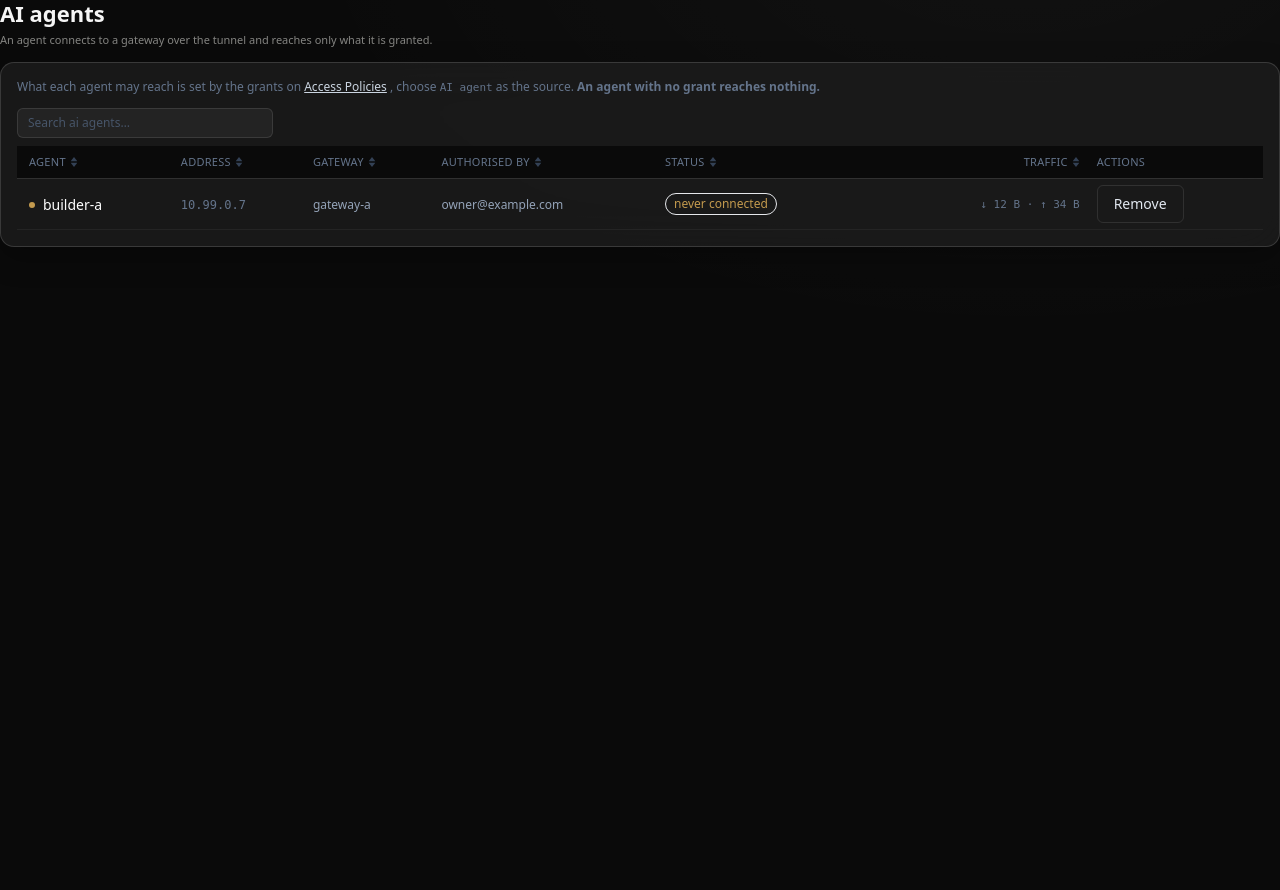
released Agents route, F04 runtime facts › resets a failed metadata PATCH to the last server snapshot without partial state
Step 1. Click the button with aria-label "Open builder-a" → (66, 205), box x1=29 y1=195 x2=102 y2=215
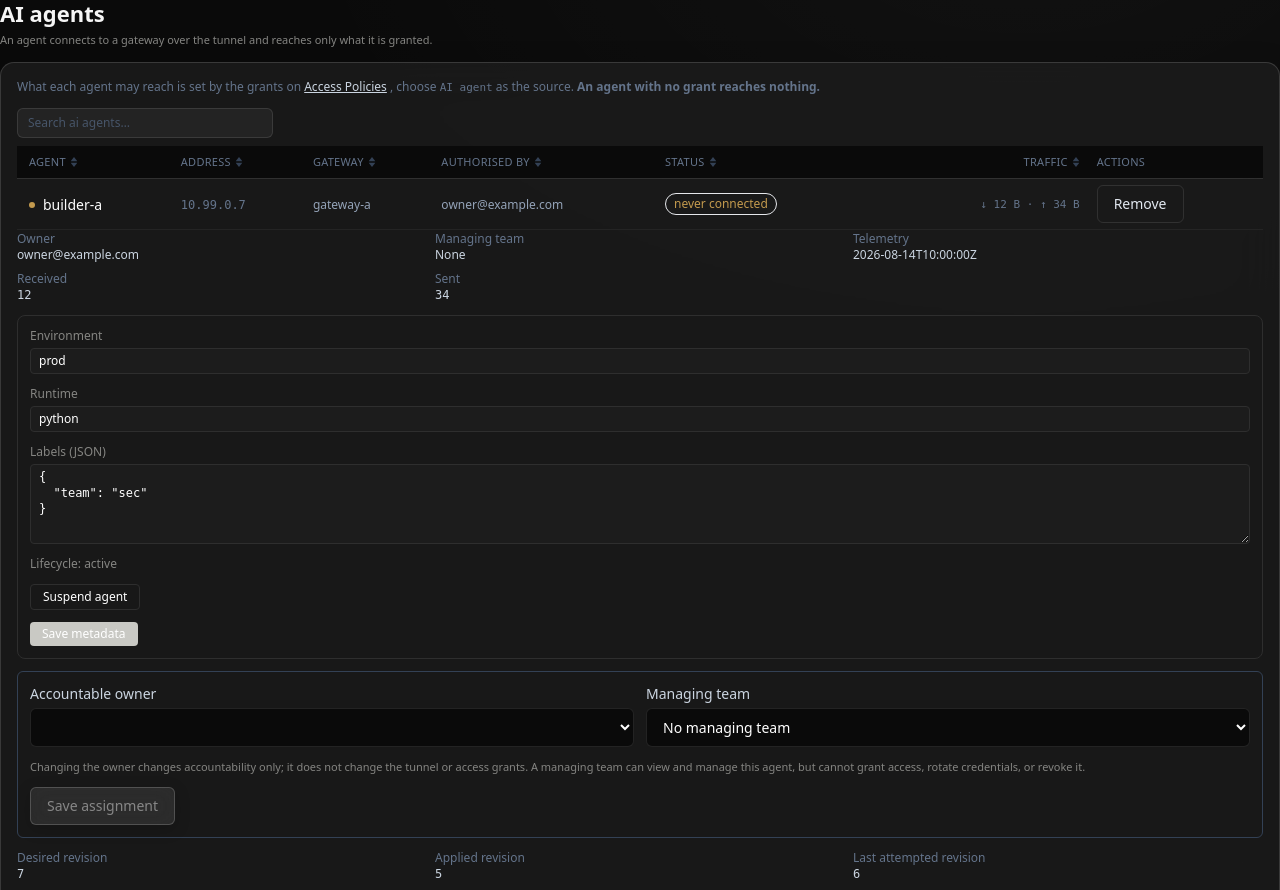
Expected: the field labelled "Environment" is shown
Step 2. Replace the text in the field labelled "Environment" with "broken-local-draft" → (640, 361), box x1=30 y1=348 x2=1250 y2=374
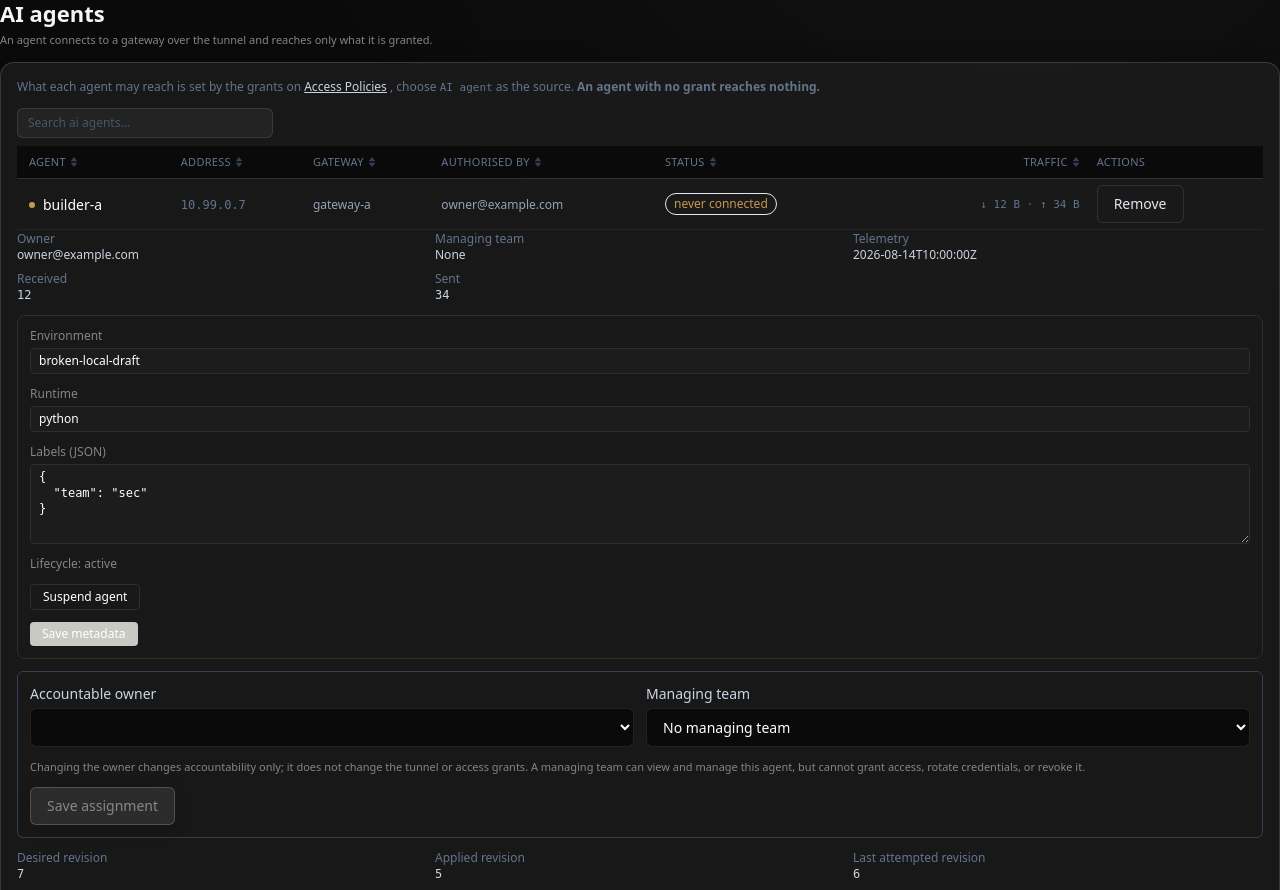
Step 3. Click the button "Save metadata" → (84, 634), box x1=30 y1=622 x2=138 y2=646
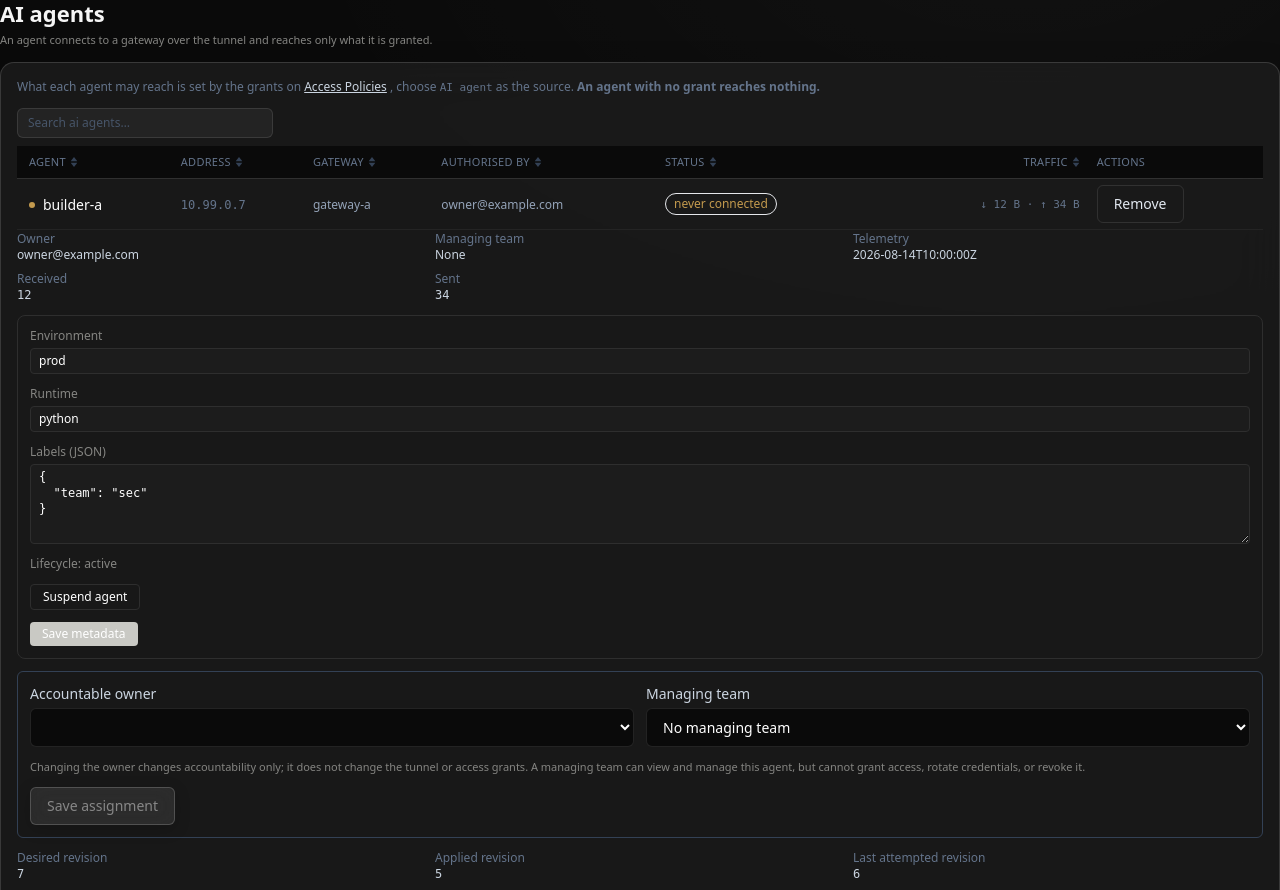
Expected: the text "broken-local-draft" is not shown
Expected: the field labelled "Environment" holds "prod", x1=30 y1=348 x2=1250 y2=374
